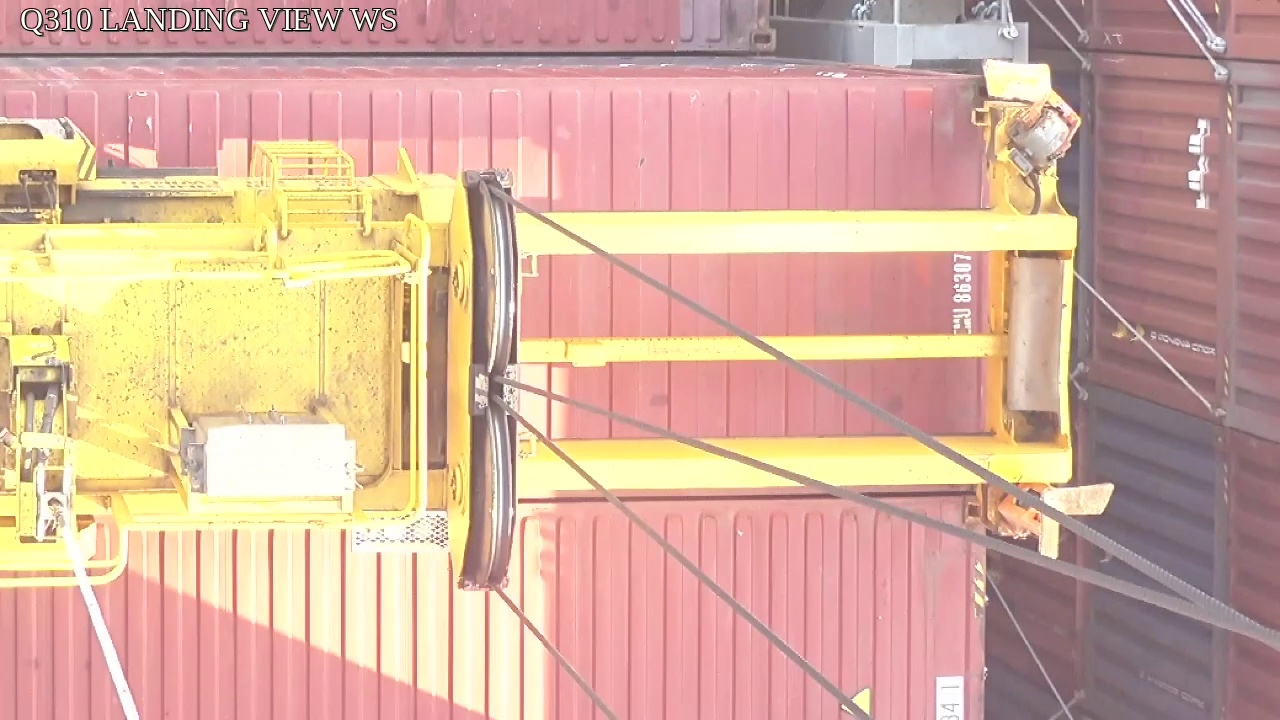right: (444, 168, 523, 593)
